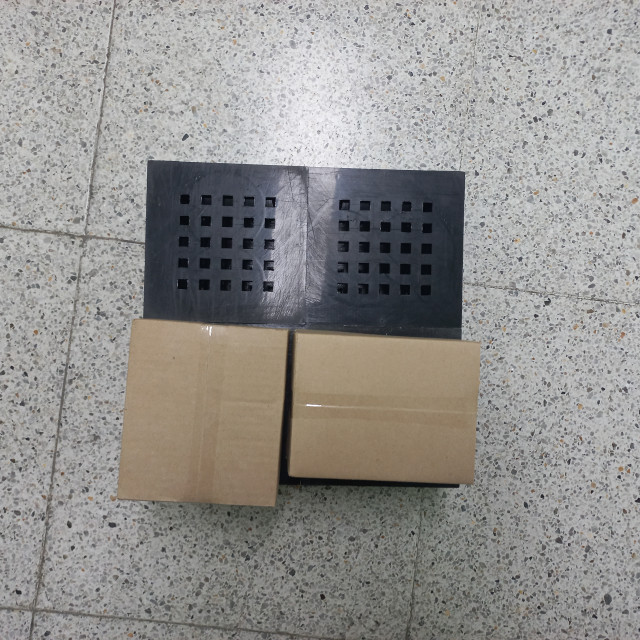box: (111, 314, 291, 512), (282, 326, 482, 490), (343, 129, 474, 323), (198, 149, 346, 314)
